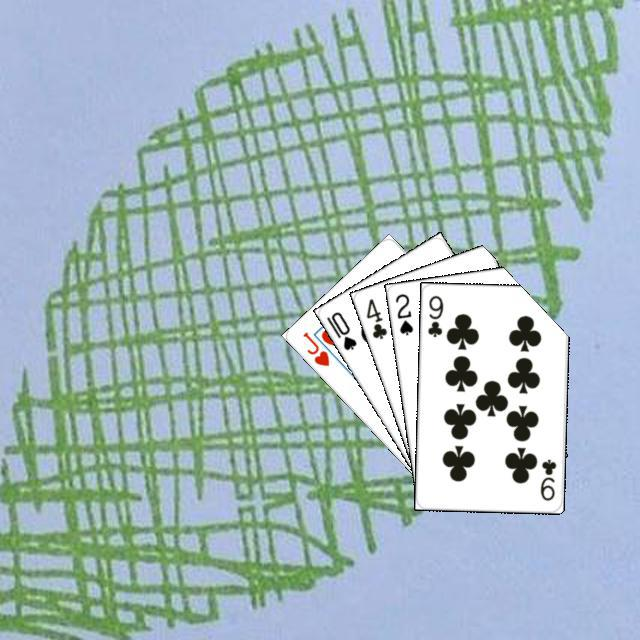10s: (321, 307, 358, 352)
2s: (390, 289, 415, 337)
4c: (361, 293, 389, 341)
9c: (535, 455, 558, 502), (423, 291, 445, 338)
Jh: (298, 327, 331, 368)
